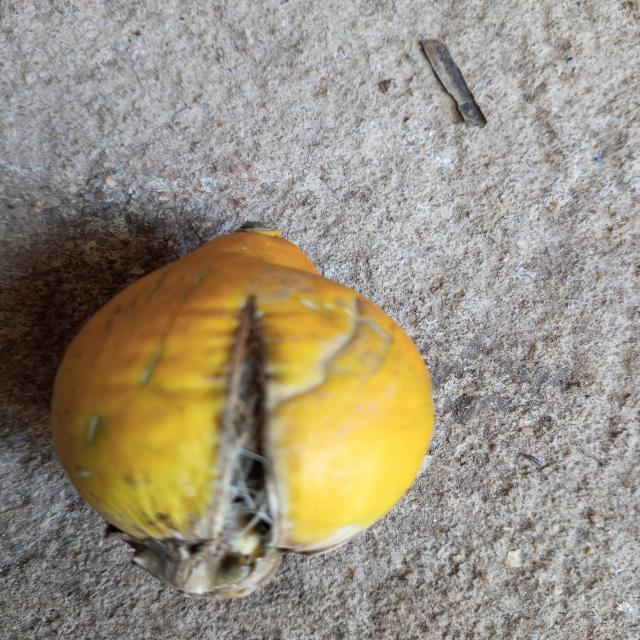damaged: (52, 221, 433, 598)
